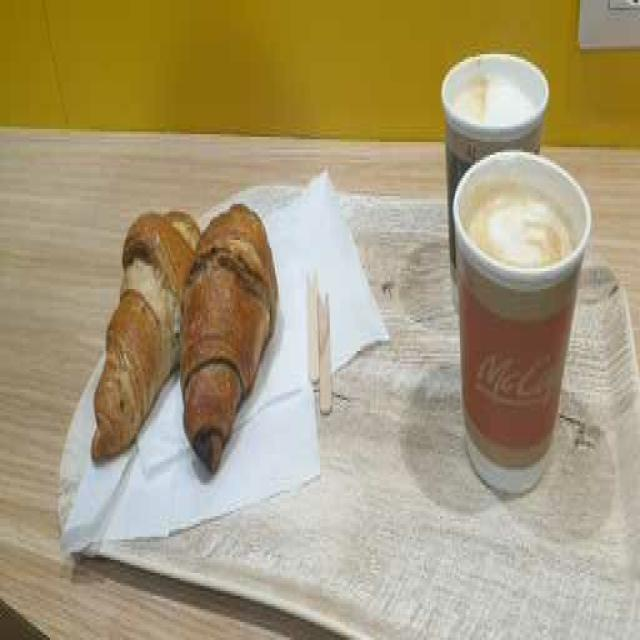Cup: (451, 147, 591, 496), (440, 49, 549, 310)
Plate: (64, 202, 639, 640)
